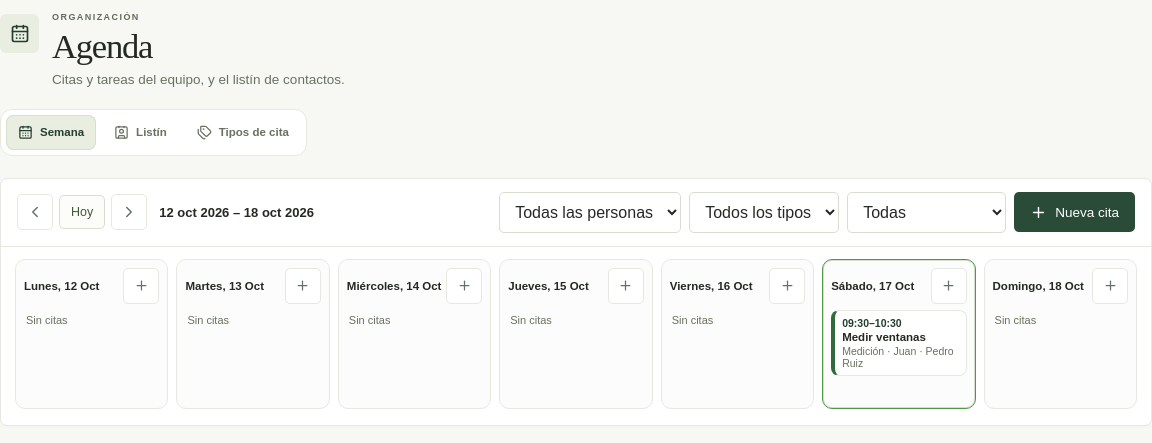
it: shows this week with the appointment on its day and moves week by week
Expected: the button "09:30–10:30 Medir ventanas Medición · Juan · Pedro Ruiz" is shown, [831,310,966,376]
Click the button named "Semana siguiente". click: (129, 212)
box: [111,194,147,230]
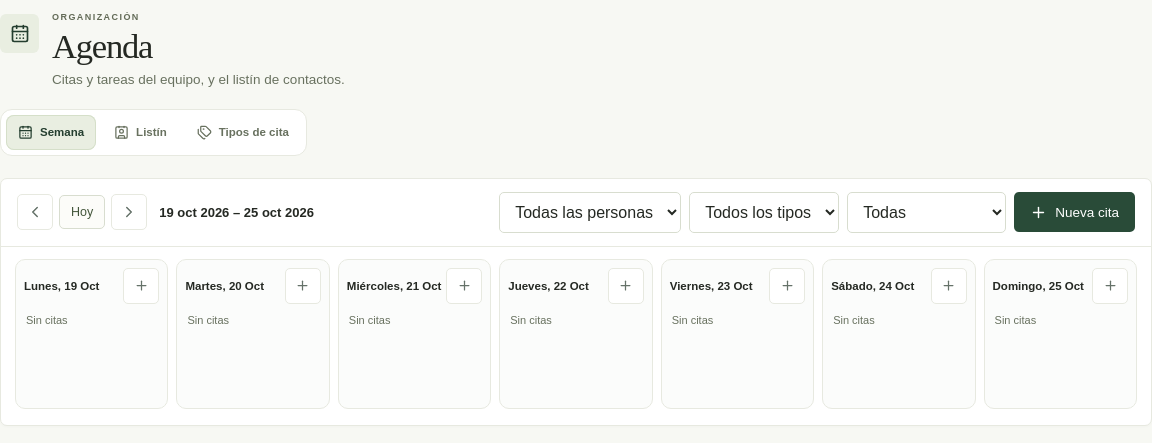
Expected: the text "Sin citas" is shown 7 times
Expected: the button "Medir ventanas" is gone
